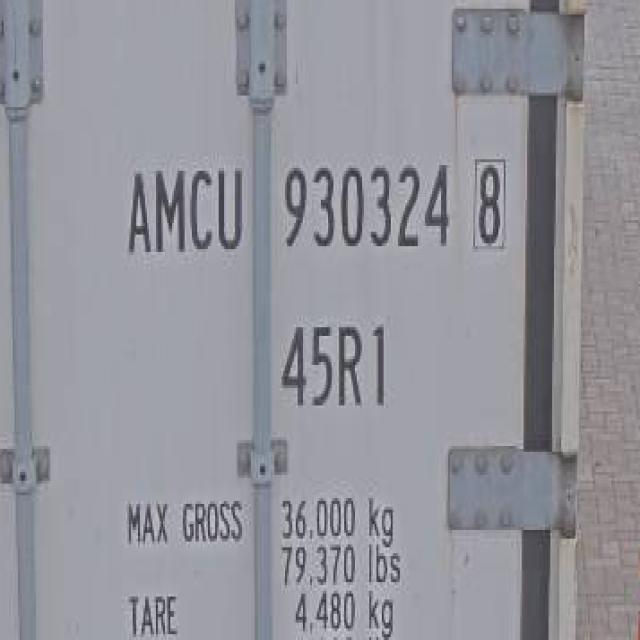dv: (468, 152, 512, 256)
owner: (122, 154, 250, 267)
serial: (276, 158, 456, 263)
size: (275, 311, 395, 417)
